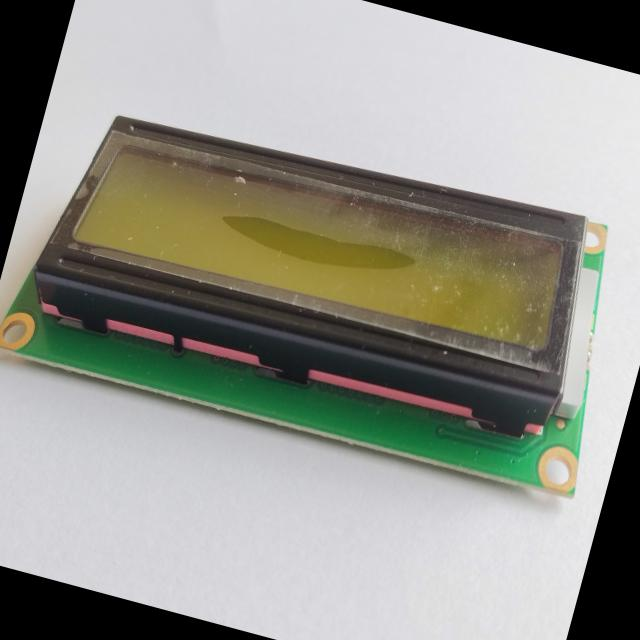lcd: (0, 74, 640, 507)
